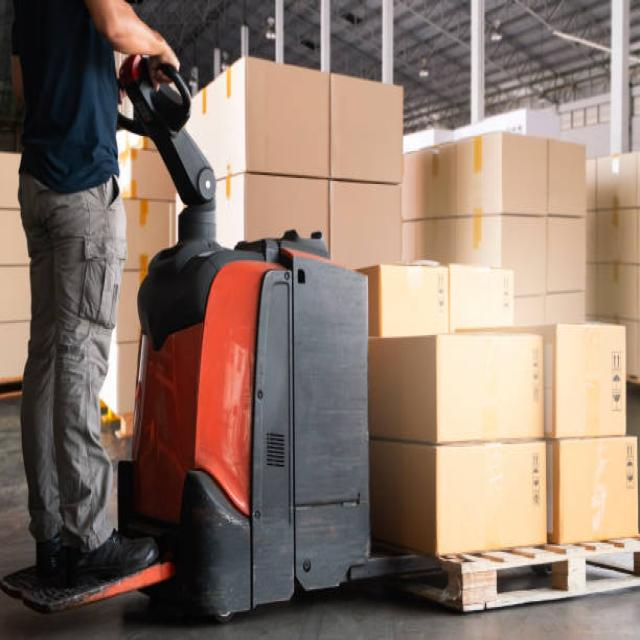Wooden-Pallets: (395, 543, 637, 615)
